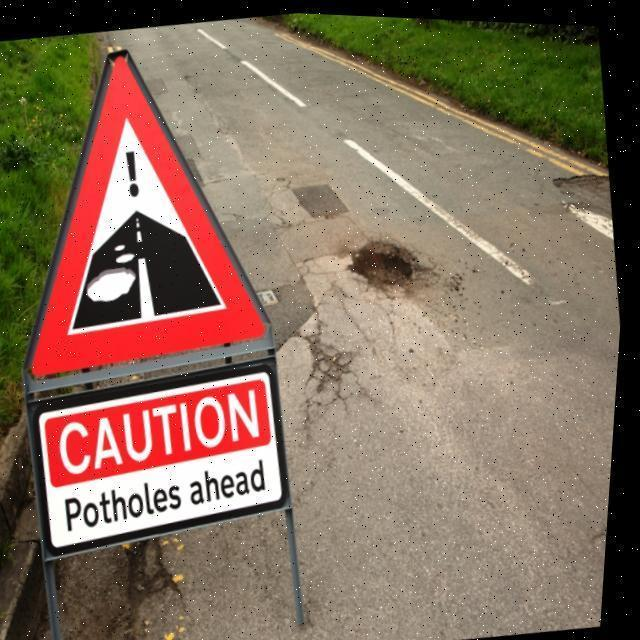Pothole: (352, 235, 422, 292)
